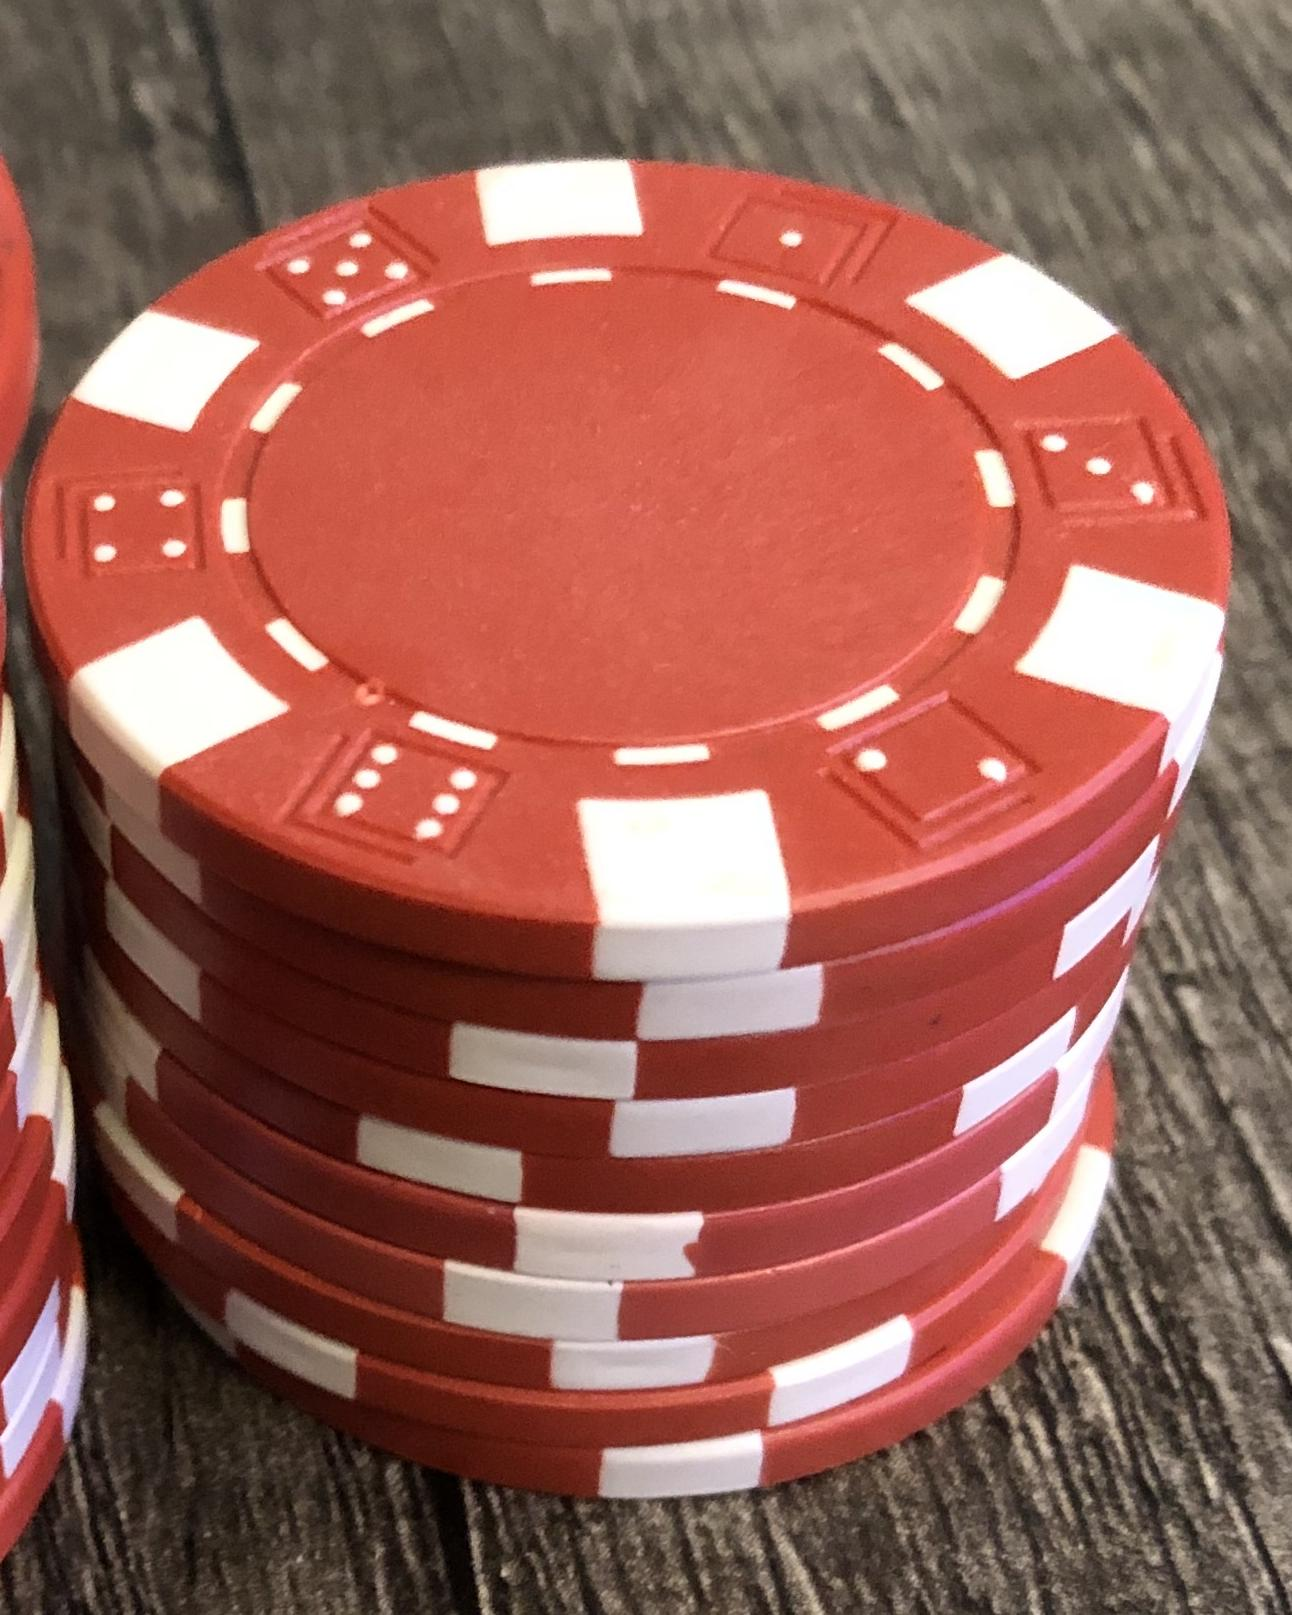Chip: (1, 1, 1292, 1615)
